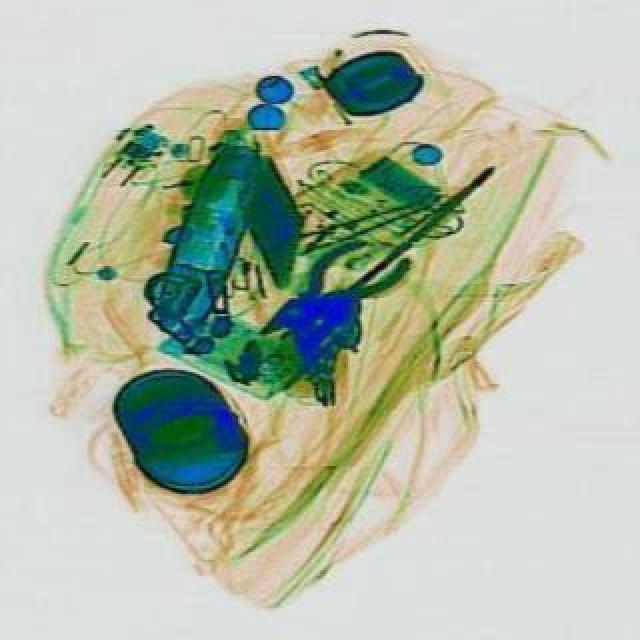wrench: (248, 222, 424, 362)
